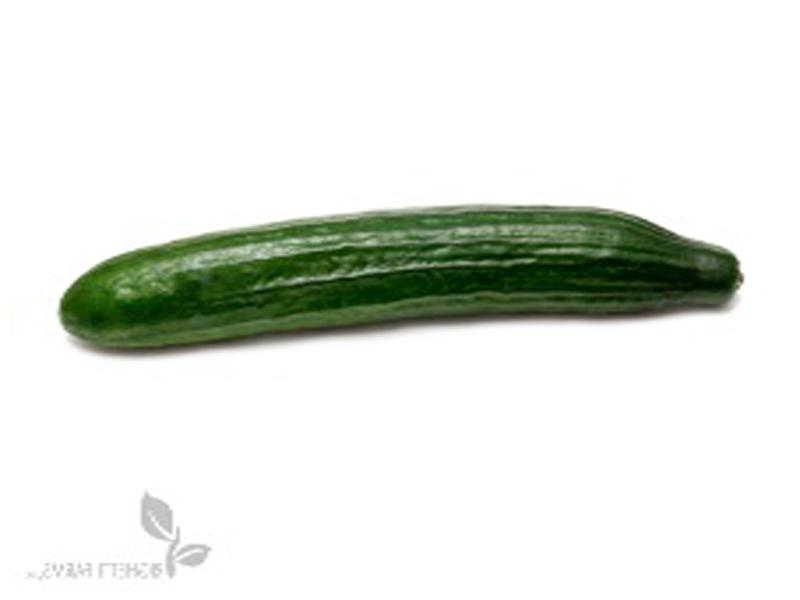Cucumber: (55, 206, 743, 349)
